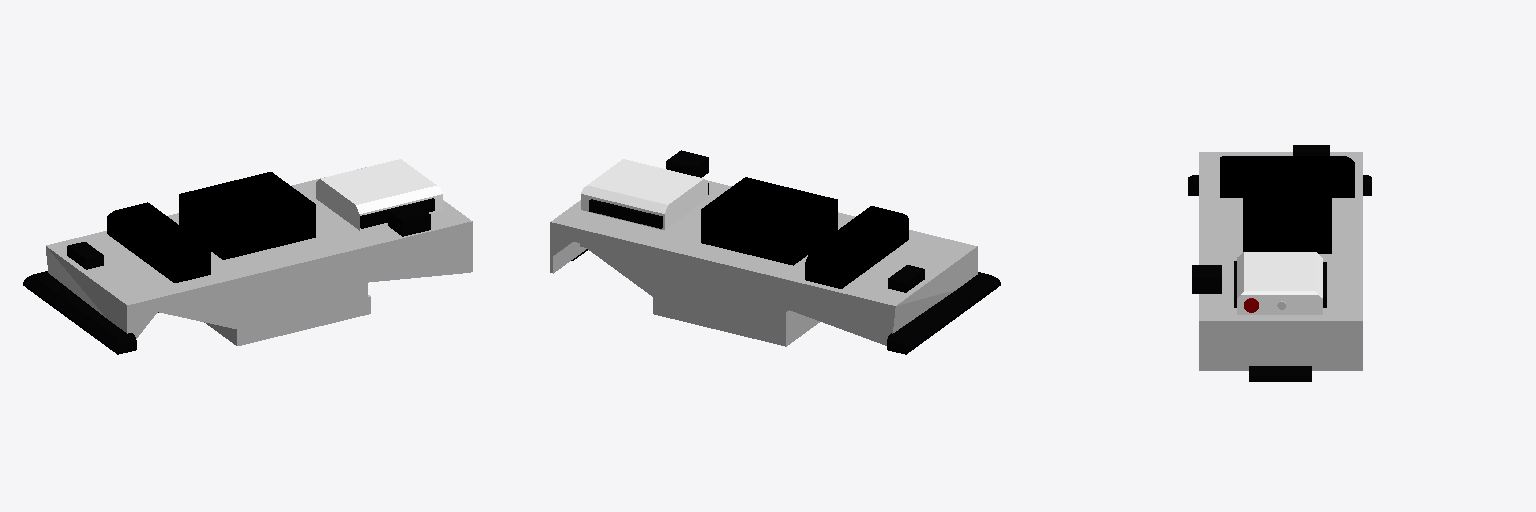
Rendered from v4w_chassis_simple.obj.
3 views of the same model, side by side, from view 1: azimuth 30°, elevation 25°; view 2: azimuth 150°, elevation 25°; view 3: azimuth 270°, elevation 25° (orthographic).
Parts seen in each view (by area): view 1: Cube, Cube.006, Cube.009, Cube.007, Cube.013, Cube.001, Cube.010, Cube.014, Cube.011; view 2: Cube, Cube.006, Cube.007, Cube.009, Cube.013, Cube.001, Cube.012, Cube.010, Cube.014; view 3: Cube, Cube.006, Cube.009, Cube.007, Cube.008, Cube.010.
Boxes of the visible parts, box(x1,y1,x2,y2) form: Cube: box(46, 167, 472, 338); Cube.006: box(179, 172, 315, 259); Cube.009: box(316, 159, 442, 230); Cube.007: box(107, 202, 210, 282); Cube.013: box(23, 271, 136, 354); Cube.001: box(204, 295, 370, 345); Cube.010: box(388, 204, 430, 236); Cube.014: box(67, 242, 103, 269); Cube.011: box(360, 198, 434, 228); Cube: box(550, 180, 977, 345); Cube.006: box(701, 177, 837, 265); Cube.007: box(805, 206, 908, 288); Cube.009: box(581, 159, 707, 229); Cube.013: box(887, 272, 1000, 354); Cube.001: box(653, 298, 819, 346); Cube.012: box(589, 199, 662, 228); Cube.010: box(666, 150, 708, 177); Cube.014: box(888, 265, 924, 292); Cube: box(1199, 152, 1362, 370); Cube.006: box(1243, 176, 1331, 253); Cube.009: box(1237, 252, 1322, 314); Cube.007: box(1220, 156, 1354, 197); Cube.008: box(1249, 366, 1311, 381); Cube.010: box(1192, 265, 1221, 293).
Size of the model in its own units: 0.4997 by 0.1414 by 0.2119.